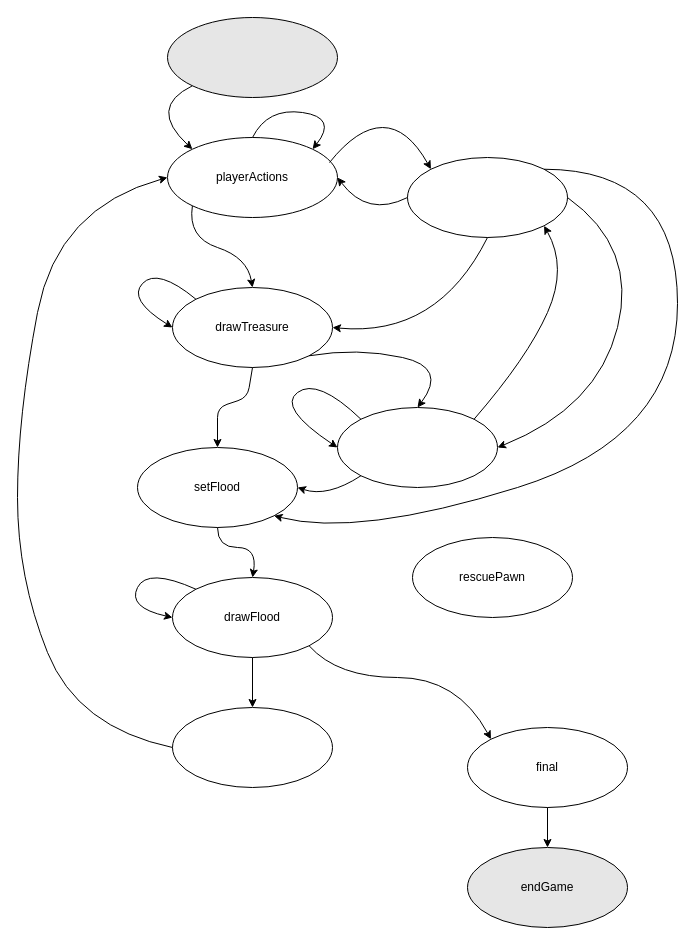
The diagram is 695 pixels wide and 945 high, and some of its shapes have lost their labels. The centre of each missing label's shape, as x and y in pixels:
"discardTreasure" goes at (417,447).
"gameSetup" goes at (252,57).
"heli_lift / sandbags / bonusShoreUp" goes at (487,197).
"nextPlayer" goes at (252,747).
